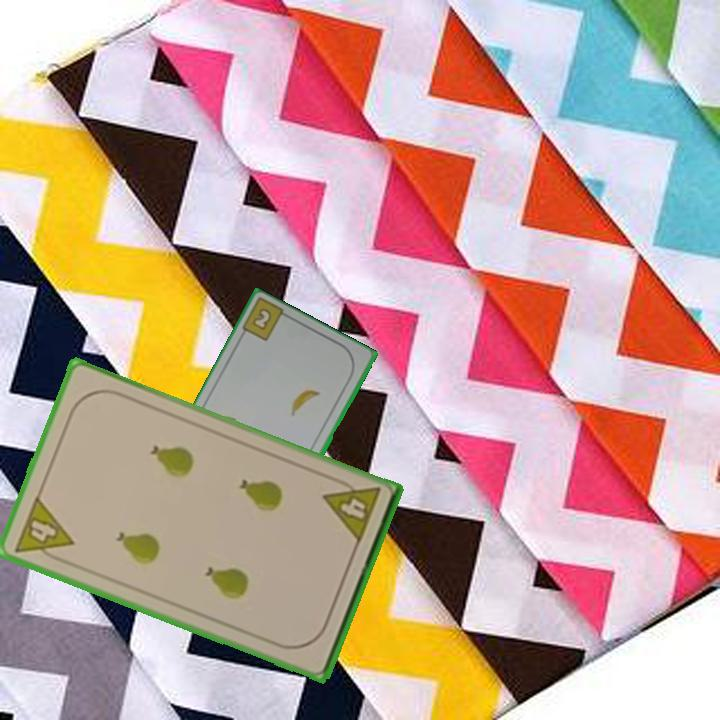2b: (249, 304, 275, 334)
4p: (10, 492, 77, 568), (319, 473, 383, 547)
